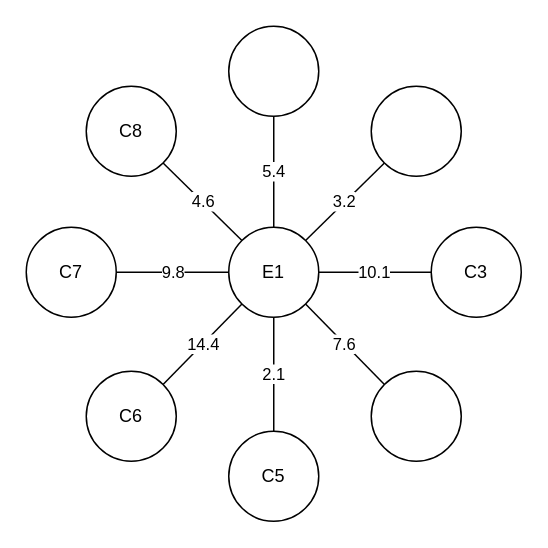
The diagram is 548 pixels wide and 548 high, and some of its shapes have lost their labels. Here are the shapes that lost their labels. From the top down, the centre of each, then its label:
At (273,70): "C1".
At (415,130): "C2".
At (415,415): "C4".
